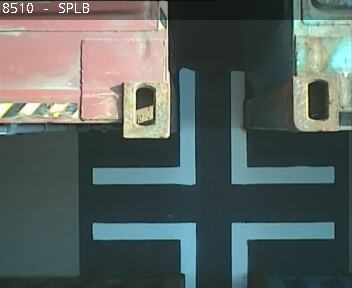groundmarker_1: (92, 71, 334, 185), (93, 222, 334, 288)
